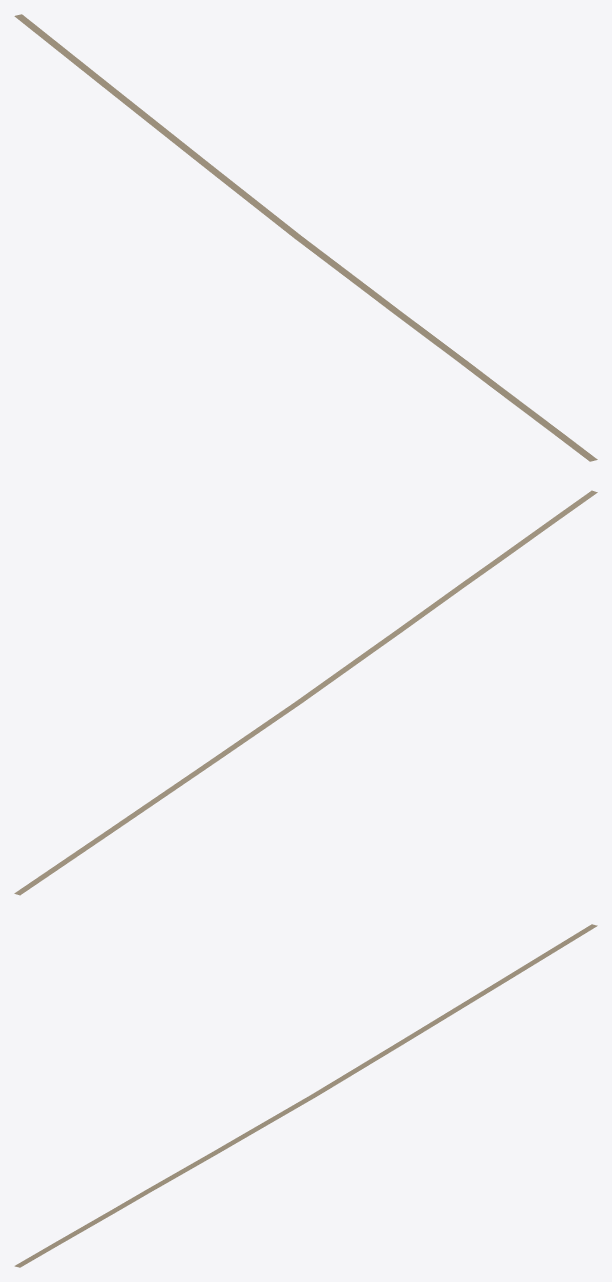
Rendered from farm_14_20_track.glb.
3 renders of one model, top to bottom at view 1: azimuth 30°, elevation 25°; view 2: azimuth 150°, elevation 25°; view 3: azimuth 330°, elevation 25°, orthographic. The views are drawn at different scales.
Visible parts, largest first — view 1: geometry_0; view 2: geometry_0; view 3: geometry_0.
Boxes of the visible parts, <box> form: geometry_0: <box>14,14,597,461</box>; geometry_0: <box>14,490,597,895</box>; geometry_0: <box>14,924,597,1267</box>.
Size of the model in its own units: 29.79 by 15.08 by 468.
